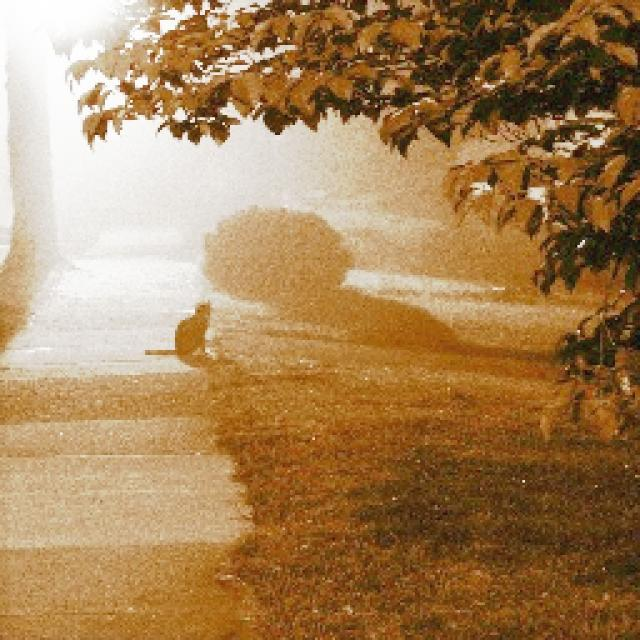cat: (142, 291, 230, 374)
